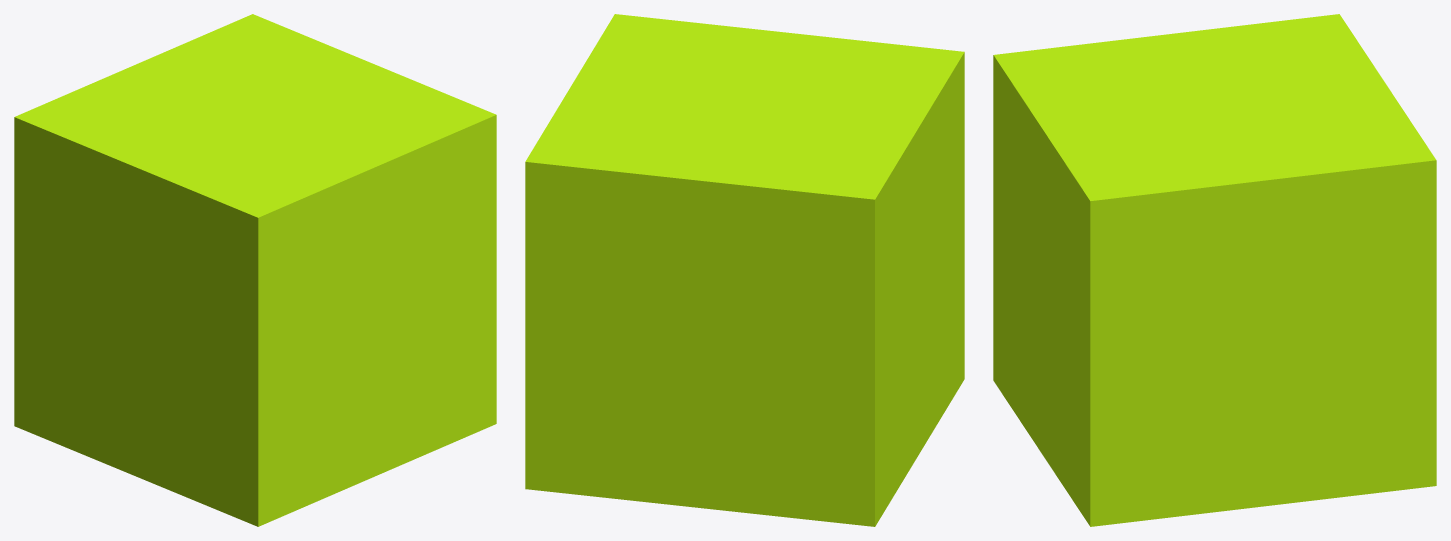
3 renders of one model, left to right at view 1: azimuth 30°, elevation 25°; view 2: azimuth 150°, elevation 25°; view 3: azimuth 270°, elevation 25°, orthographic. The views are drawn at different scales.
Parts seen in each view (by area): view 1: root; view 2: root; view 3: root.
Boxes of the visible parts, box(x1,y1,x2,y2) form: root: box(14, 14, 496, 526); root: box(525, 14, 964, 526); root: box(993, 14, 1436, 526).
Size of the model in its own units: 0.2465 by 0.2 by 0.2465.
Materials: 1 (1 with a texture image).
